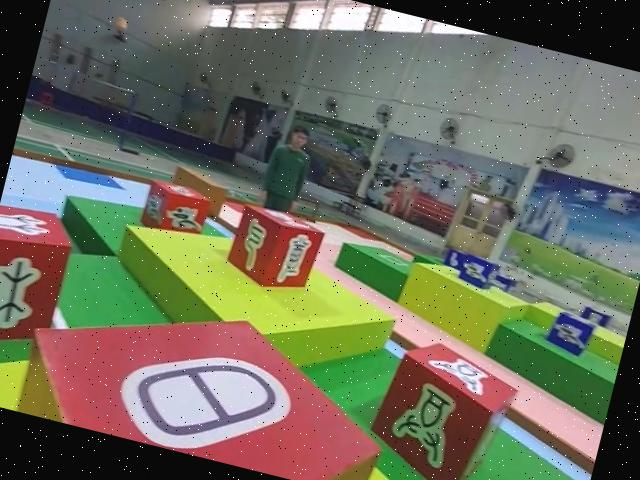R1: (137, 175, 214, 244)
R2 Fake: (15, 268, 411, 480), (219, 198, 327, 301)
R2 Real: (356, 327, 525, 480), (0, 195, 83, 366)
